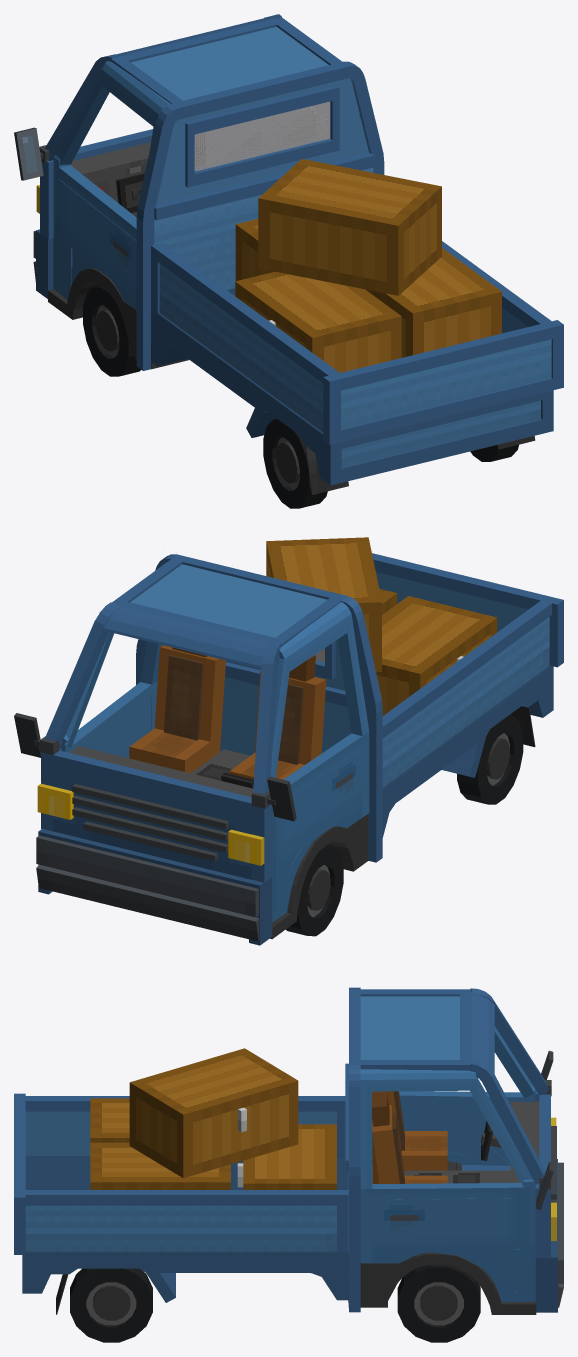
File: TRUCK.glb
3 renders of one model, top to bottom at view 1: azimuth 30°, elevation 25°; view 2: azimuth 150°, elevation 25°; view 3: azimuth 270°, elevation 25°, orthographic. The views are drawn at different scales.
Parts seen in each view (by area): view 1: de3d5532-93dc-da6a-731a-729a3e18dc59_410, 28342005-4f9d-347c-a322-2cc1e004d4fd_152, 6164d5df-1082-1201-2599-20d039a541a5_407, 1f28929c-902c-623b-d2df-8be37c5102f4_149, 9e6fc57e-b6c7-9fd1-d9af-35c64e705732_160, 953b7665-d7bc-98aa-acc4-65669cc6ff3b_404, 11ee8d88-6692-a189-3ee6-5f0bb57825b1_76, 0015045f-ae73-77e3-0dfa-e56e5320c2b6_150, b9c2fbb5-1834-a909-d32c-a23da8191748_4, c23c3e63-f5a2-225e-2924-37990ebbddaa_148, ed91185a-7e5a-7e71-e3d4-2208de6bfcc9_159, 3251d9bf-9004-b464-b3c6-0f3ea96412ba_197 (+31 smaller); view 2: 9e6fc57e-b6c7-9fd1-d9af-35c64e705732_160, 3ff0dc92-d6b4-f5d8-a190-95c62c65fb78_68, 6164d5df-1082-1201-2599-20d039a541a5_407, 11ee8d88-6692-a189-3ee6-5f0bb57825b1_76, dcdc52ed-5ade-03ab-8cec-a46c8b6f6220_118, de3d5532-93dc-da6a-731a-729a3e18dc59_410, 68b0188d-d82d-4320-7375-95f2f61de044_121, b9c2fbb5-1834-a909-d32c-a23da8191748_4, ed91185a-7e5a-7e71-e3d4-2208de6bfcc9_159, 0015045f-ae73-77e3-0dfa-e56e5320c2b6_150, c23c3e63-f5a2-225e-2924-37990ebbddaa_148, 91beb9a7-3f08-91f3-7e01-269cd75eb03e_388 (+52 smaller); view 3: de3d5532-93dc-da6a-731a-729a3e18dc59_410, 5eb9ed88-c5fc-7134-c588-5bf5992f74d8_158, 1689990a-1b9d-a39c-2826-800060547611_32, 11ee8d88-6692-a189-3ee6-5f0bb57825b1_76, 61ff60d7-6af9-0f48-e376-4f4f8fe5909e_191, 58d10fe3-b64b-c746-eeec-875bfe50e4f2_157, 364e9de8-666b-ce30-eeb5-6fde6f43b2bd_401, 953b7665-d7bc-98aa-acc4-65669cc6ff3b_404, 9e6fc57e-b6c7-9fd1-d9af-35c64e705732_160, b9c2fbb5-1834-a909-d32c-a23da8191748_4, f24b2e26-c677-1a49-624f-272ec8a24053_37, ed91185a-7e5a-7e71-e3d4-2208de6bfcc9_159 (+42 smaller).
Boxes of the visible parts, x1,y1,x2,y2 form: de3d5532-93dc-da6a-731a-729a3e18dc59_410: (258, 159, 441, 295); 28342005-4f9d-347c-a322-2cc1e004d4fd_152: (156, 78, 368, 204); 6164d5df-1082-1201-2599-20d039a541a5_407: (235, 271, 401, 372); 1f28929c-902c-623b-d2df-8be37c5102f4_149: (341, 339, 551, 428); 9e6fc57e-b6c7-9fd1-d9af-35c64e705732_160: (159, 264, 323, 431); 953b7665-d7bc-98aa-acc4-65669cc6ff3b_404: (365, 248, 501, 357); 11ee8d88-6692-a189-3ee6-5f0bb57825b1_76: (131, 27, 328, 100); 0015045f-ae73-77e3-0dfa-e56e5320c2b6_150: (154, 167, 373, 289); b9c2fbb5-1834-a909-d32c-a23da8191748_4: (58, 179, 136, 299); c23c3e63-f5a2-225e-2924-37990ebbddaa_148: (323, 320, 563, 393); ed91185a-7e5a-7e71-e3d4-2208de6bfcc9_159: (151, 243, 339, 382); 3251d9bf-9004-b464-b3c6-0f3ea96412ba_197: (341, 400, 540, 467); 9e6fc57e-b6c7-9fd1-d9af-35c64e705732_160: (382, 617, 549, 787); 3ff0dc92-d6b4-f5d8-a190-95c62c65fb78_68: (53, 750, 251, 867); 6164d5df-1082-1201-2599-20d039a541a5_407: (376, 596, 497, 715); 11ee8d88-6692-a189-3ee6-5f0bb57825b1_76: (130, 564, 327, 637); dcdc52ed-5ade-03ab-8cec-a46c8b6f6220_118: (36, 835, 258, 917); de3d5532-93dc-da6a-731a-729a3e18dc59_410: (266, 537, 381, 672); 68b0188d-d82d-4320-7375-95f2f61de044_121: (36, 864, 259, 941); b9c2fbb5-1834-a909-d32c-a23da8191748_4: (274, 748, 362, 865); ed91185a-7e5a-7e71-e3d4-2208de6bfcc9_159: (382, 600, 551, 738); 0015045f-ae73-77e3-0dfa-e56e5320c2b6_150: (157, 677, 351, 755); c23c3e63-f5a2-225e-2924-37990ebbddaa_148: (372, 553, 563, 615); 91beb9a7-3f08-91f3-7e01-269cd75eb03e_388: (154, 645, 225, 757); de3d5532-93dc-da6a-731a-729a3e18dc59_410: (129, 1048, 298, 1178); 5eb9ed88-c5fc-7134-c588-5bf5992f74d8_158: (25, 1205, 336, 1251); 1689990a-1b9d-a39c-2826-800060547611_32: (372, 1198, 524, 1252); 11ee8d88-6692-a189-3ee6-5f0bb57825b1_76: (360, 996, 459, 1059); 61ff60d7-6af9-0f48-e376-4f4f8fe5909e_191: (34, 1158, 336, 1266); 58d10fe3-b64b-c746-eeec-875bfe50e4f2_157: (25, 1190, 348, 1205); 364e9de8-666b-ce30-eeb5-6fde6f43b2bd_401: (243, 1124, 336, 1189); 953b7665-d7bc-98aa-acc4-65669cc6ff3b_404: (90, 1142, 230, 1189); 9e6fc57e-b6c7-9fd1-d9af-35c64e705732_160: (25, 1111, 336, 1155); b9c2fbb5-1834-a909-d32c-a23da8191748_4: (372, 1106, 508, 1160); f24b2e26-c677-1a49-624f-272ec8a24053_37: (372, 1182, 524, 1199); ed91185a-7e5a-7e71-e3d4-2208de6bfcc9_159: (25, 1096, 345, 1111).
Size of the model in its own units: 2.95 by 3.09 by 5.64.
Materials: 1 (1 with a texture image).
